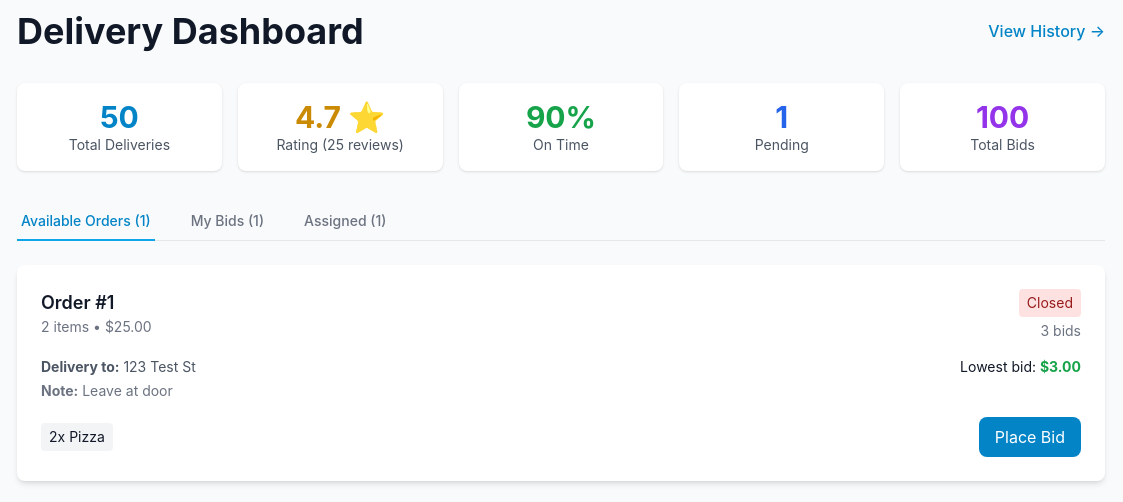
Test case: DeliveryDashboard › My Bids Tab › switches to bids tab when clicked
Click the button "My Bids (1)": x=227, y=222 x1=187 y1=203 x2=268 y2=241
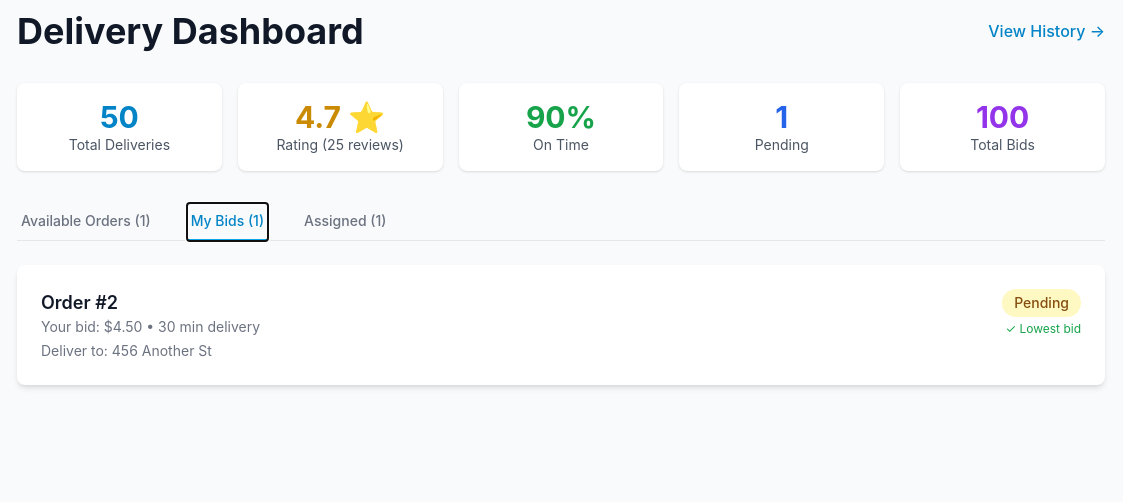
Result: the heading "Order #2" is shown at x1=41 y1=292 x2=118 y2=313
Result: the text "Your bid: $4.50 • 30 min delivery" is shown at x1=41 y1=317 x2=260 y2=337
